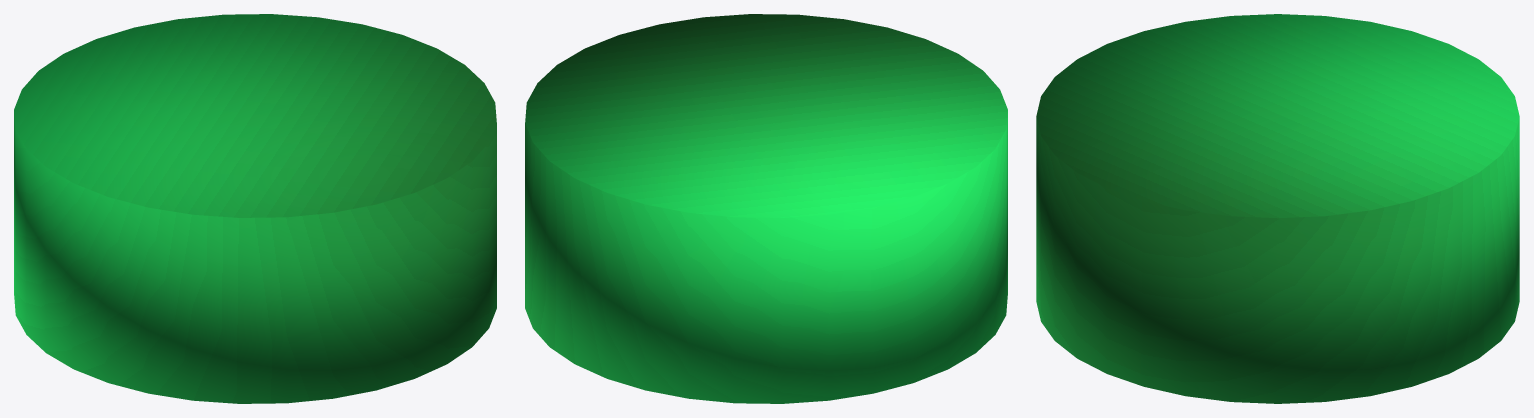
Rendered from ski models.fbx.
The picture shows the model from 3 angles, left to right: view 1: azimuth 30°, elevation 25°; view 2: azimuth 150°, elevation 25°; view 3: azimuth 270°, elevation 25°; orthographic projection.
Visible parts, largest first — view 1: Cylinder; view 2: Cylinder; view 3: Cylinder.
Part boxes in pixels (left/top/right/bottom): Cylinder: left=14, top=14, right=496, bottom=403; Cylinder: left=525, top=14, right=1007, bottom=403; Cylinder: left=1036, top=14, right=1519, bottom=403.
Bounding box in the file's own units: 0.5107 × 0.2167 × 0.5107.
1 material, 1 textured.
